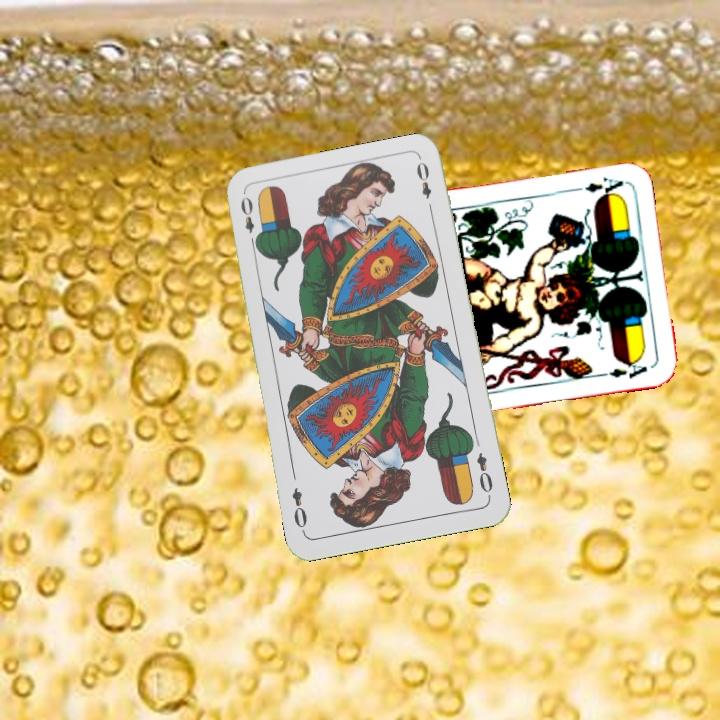EA: (567, 172, 626, 200)
EO: (236, 193, 262, 250), (472, 448, 496, 496)
